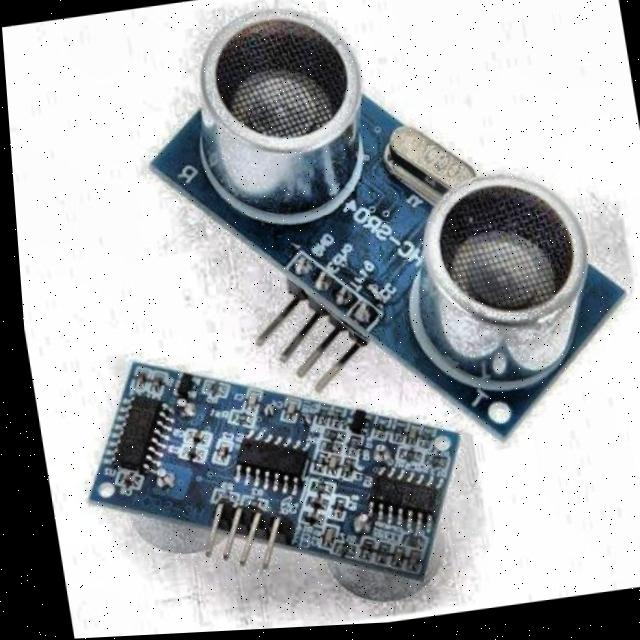Ultrasonic Sensor: (84, 0, 640, 477), (63, 353, 454, 618)
